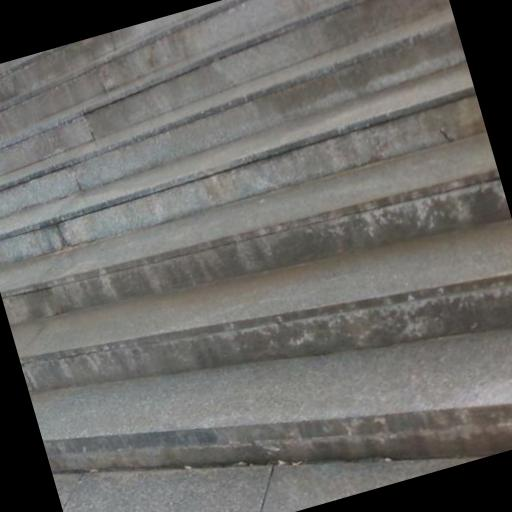stairs: (0, 0, 511, 472)
